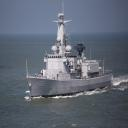Fragata: (26, 1, 116, 102)
